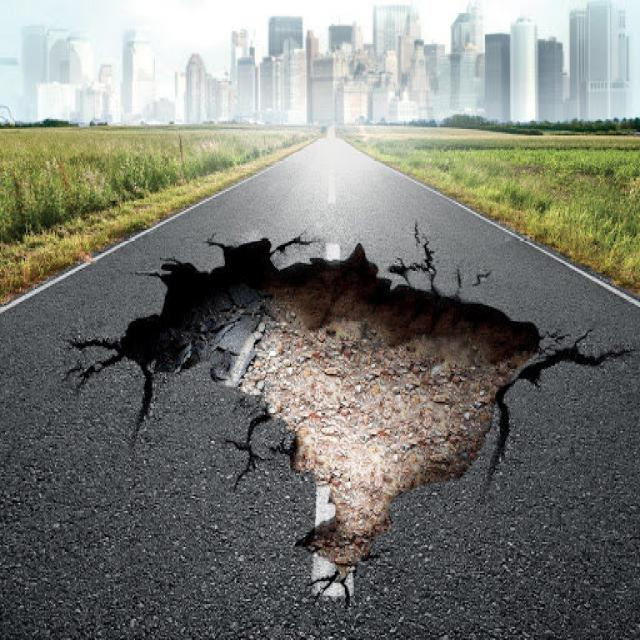Pothole: (105, 225, 541, 546)
